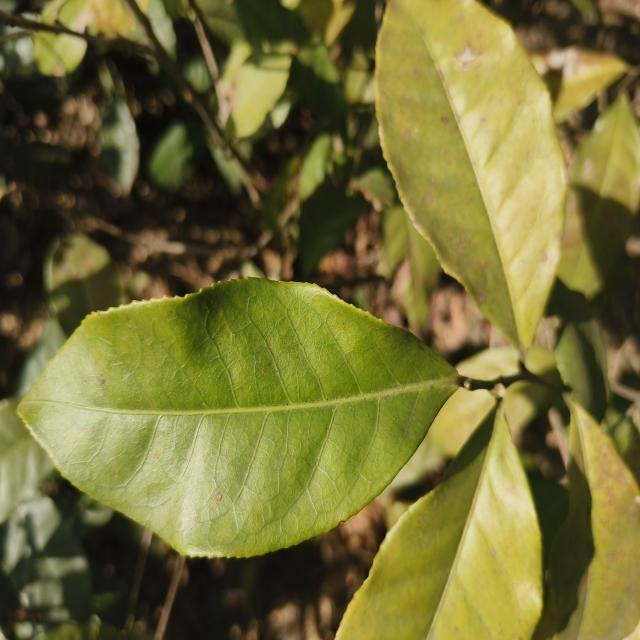Leaf: (19, 278, 457, 556), (375, 0, 566, 346), (336, 406, 543, 640), (548, 399, 640, 640), (558, 93, 640, 299), (235, 0, 346, 130), (0, 496, 91, 621), (546, 281, 609, 421), (43, 234, 122, 335), (381, 206, 441, 331), (531, 46, 629, 122), (0, 398, 53, 523), (99, 97, 139, 195), (149, 122, 193, 189)
